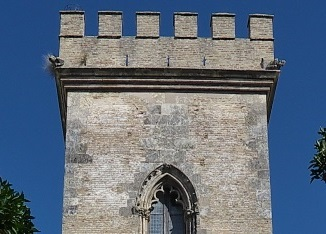arco-apuntado: (141, 171, 197, 215)
